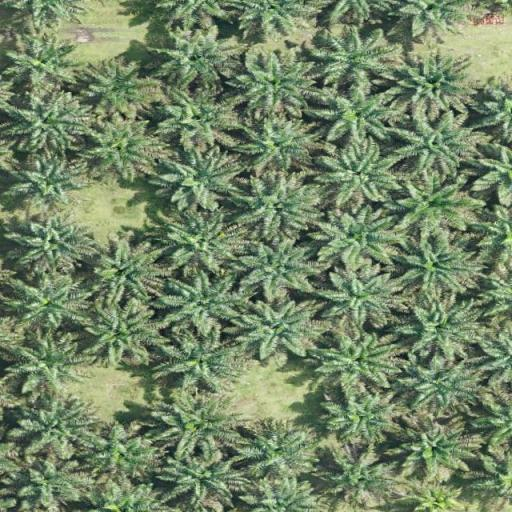Ganoderma: (412, 488, 462, 512)
